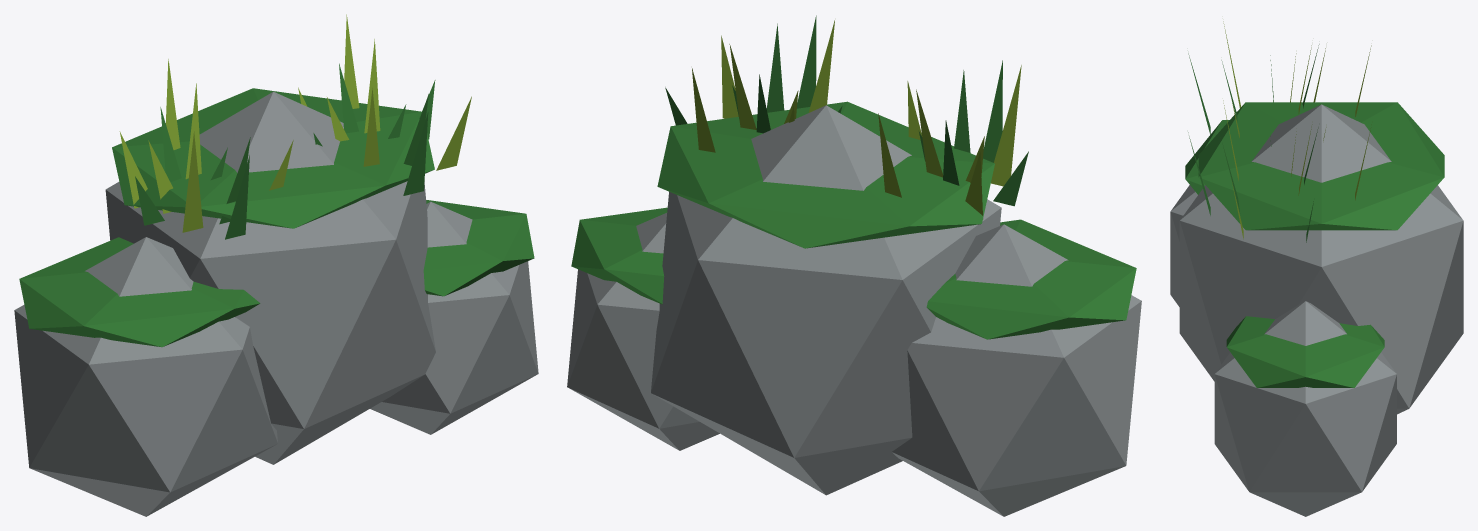
File: cliff_fragment.glb
The picture shows the model from 3 angles, left to right: view 1: azimuth 30°, elevation 25°; view 2: azimuth 150°, elevation 25°; view 3: azimuth 270°, elevation 25°; orthographic projection. The views are drawn at different scales.
Parts seen in each view (by area): view 1: cliff_fragment_pc; view 2: cliff_fragment_pc; view 3: cliff_fragment_pc.
Part boxes in pixels (left/top/right/bottom): cliff_fragment_pc: left=14, top=14, right=538, bottom=516; cliff_fragment_pc: left=567, top=15, right=1141, bottom=516; cliff_fragment_pc: left=1170, top=21, right=1463, bottom=516.
Size of the model in its own units: 3.43 by 2.61 by 1.84.
